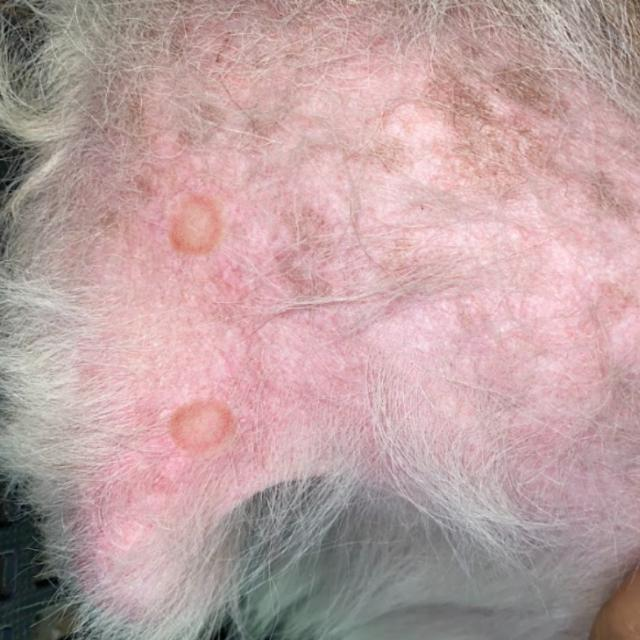ringworm: (155, 195, 235, 260), (162, 399, 240, 453)
